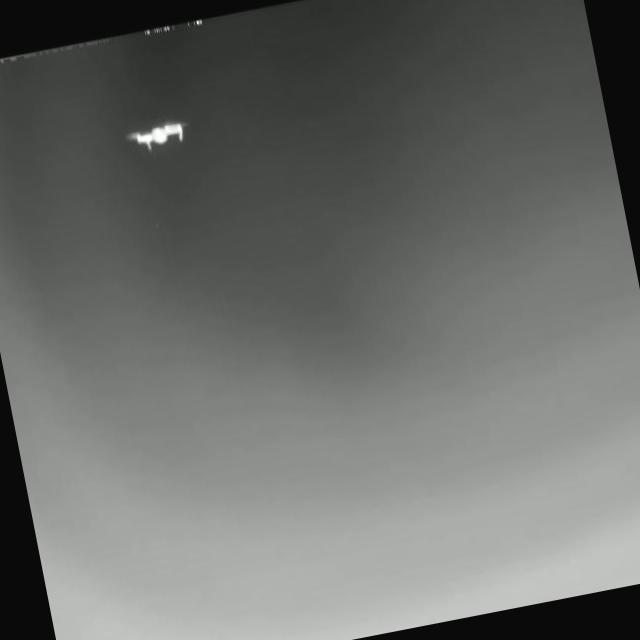DRONE: (127, 118, 190, 150)
